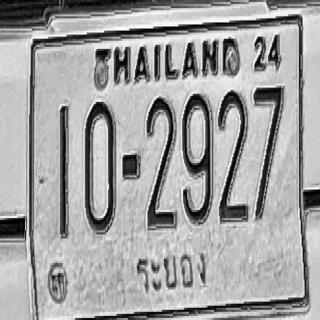N00: (84, 99, 115, 233)
N01: (59, 103, 68, 238)
N02: (218, 88, 248, 222), (146, 95, 176, 227)
N07: (253, 84, 284, 220)
N09: (182, 91, 212, 223)
P53: (132, 241, 210, 302)
